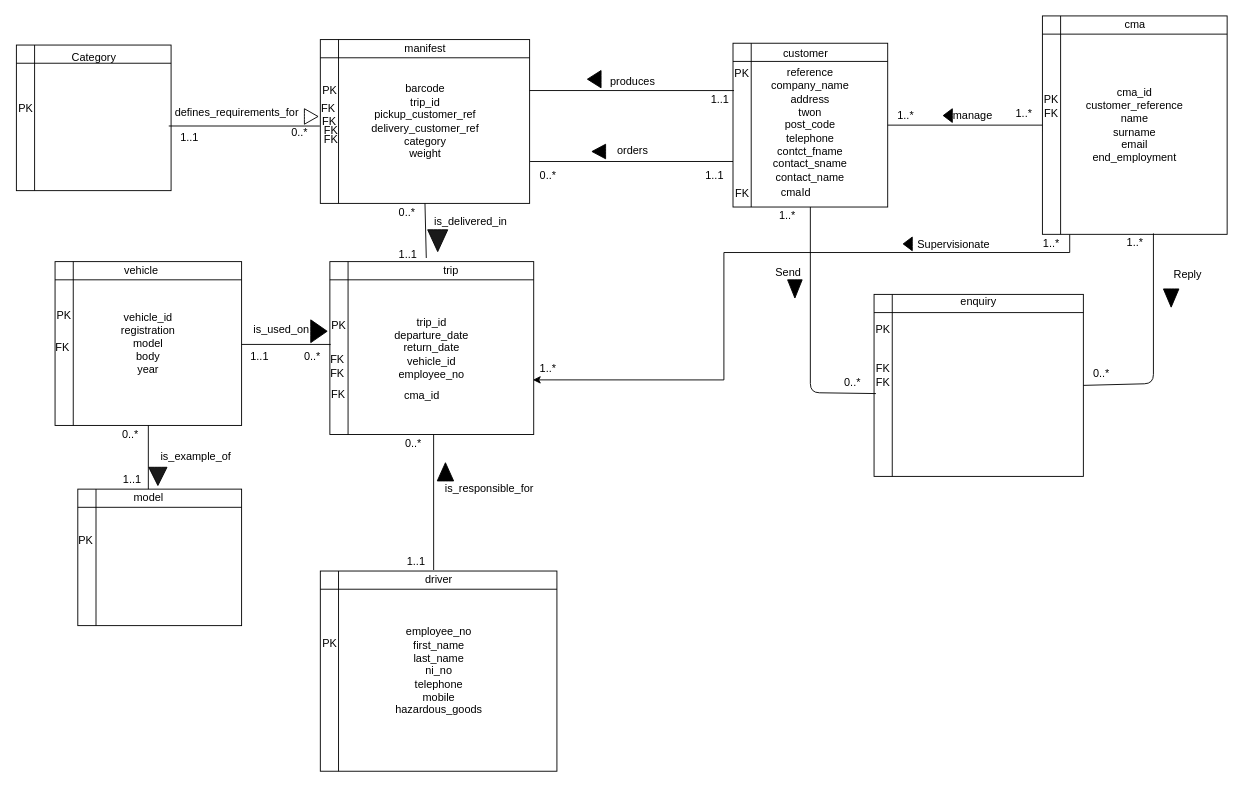
Some shapes in this 1243 by 787 pixel diagram are drawn without their labels. The shapes that lost their labels are listed below. From the top down, each one's box as (x1, y1, x2, y2) in pixels, then its label:
(15, 44, 171, 191): category description requirement
(873, 293, 1083, 476): id title date_enquiry date_response message responce cma_id customer_id
(77, 488, 242, 626): model make kerb gvw
